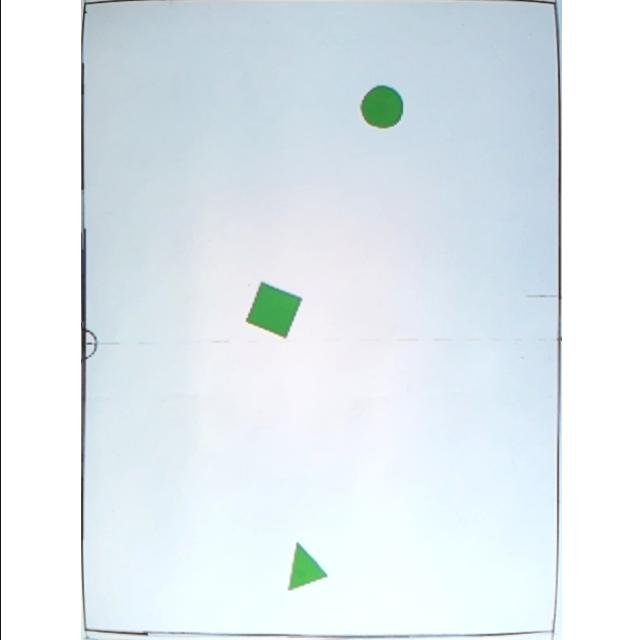greenCircle: (356, 84, 402, 130)
greenSquare: (241, 280, 301, 342)
greenTriangle: (282, 540, 326, 592)
